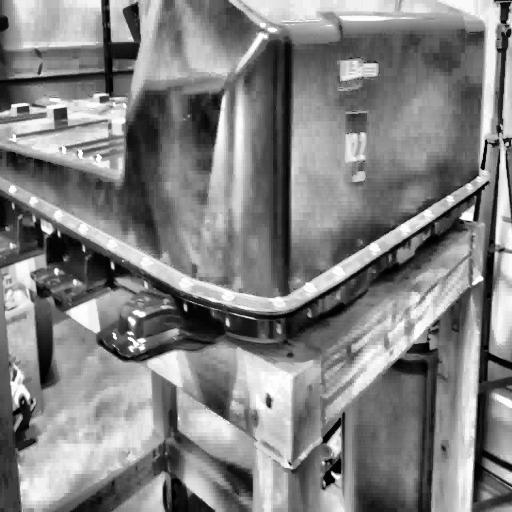b_casing: (0, 0, 512, 363)
nut: (302, 277, 318, 297), (331, 262, 346, 280), (178, 274, 192, 292), (272, 295, 287, 311), (221, 289, 235, 305), (139, 254, 153, 270), (399, 220, 411, 238), (368, 240, 381, 255), (422, 207, 434, 221), (106, 238, 118, 252), (78, 220, 88, 236), (8, 182, 17, 196), (28, 194, 38, 206), (53, 210, 63, 221), (446, 193, 455, 205), (466, 180, 474, 192), (482, 166, 489, 179), (476, 174, 482, 182)
